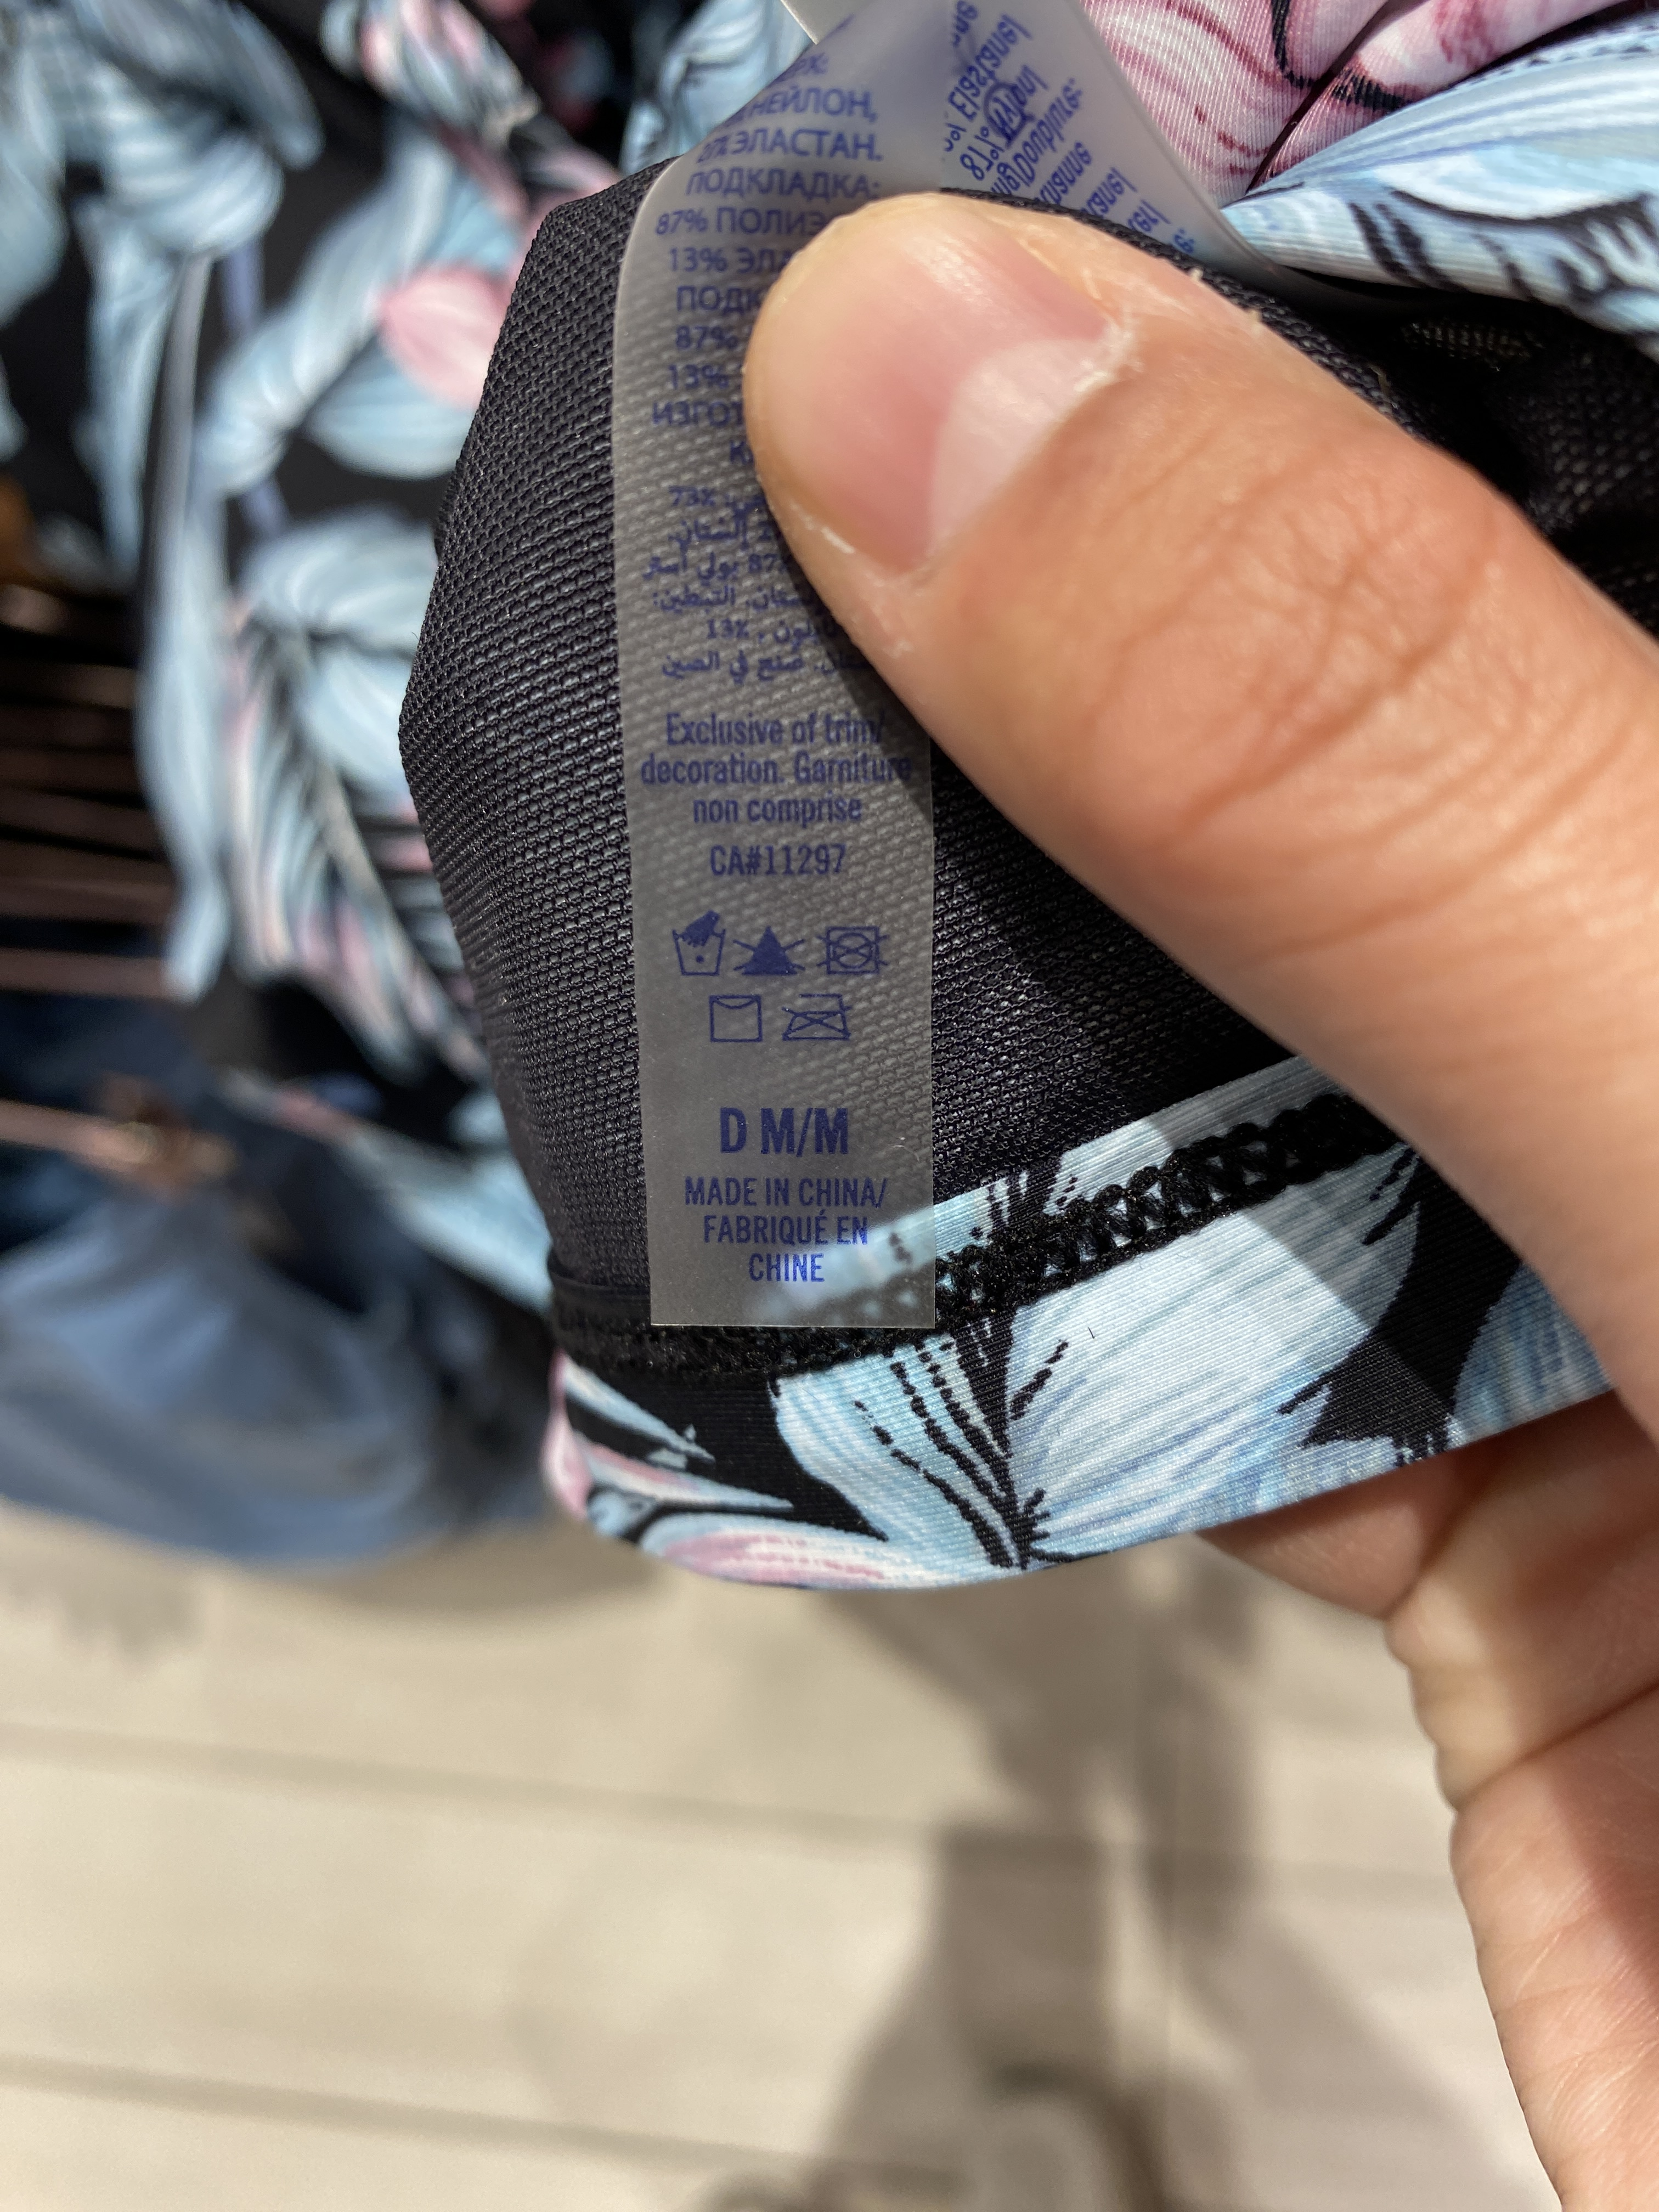icon: (660, 909, 732, 984), (810, 920, 892, 979), (725, 927, 810, 981), (775, 991, 856, 1042), (706, 991, 765, 1043)
